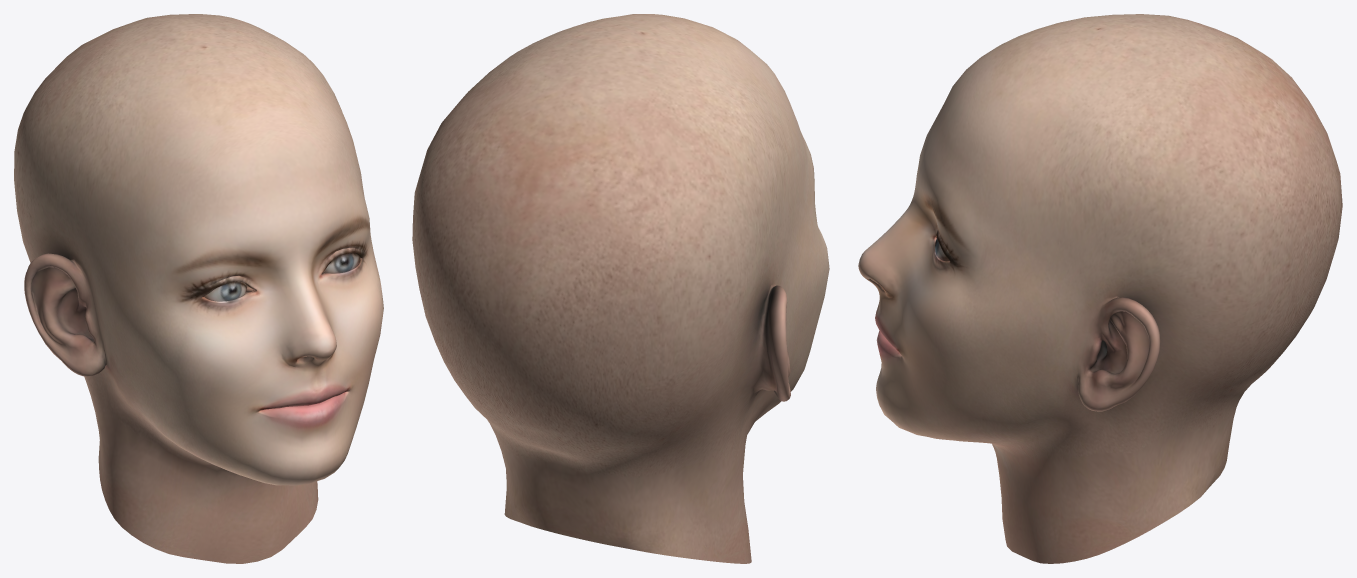
The model's file is avatar.glb.
3 renders of one model, left to right at view 1: azimuth 30°, elevation 25°; view 2: azimuth 150°, elevation 25°; view 3: azimuth 270°, elevation 25°, orthographic. The views are drawn at different scales.
Parts seen in each view (by area): view 1: Head; view 2: Head; view 3: Head.
Part boxes in pixels (x1,y1,x2,y2): Head: (14,14,383,563); Head: (412,14,829,563); Head: (858,14,1342,563).
Bounding box in the file's own units: 0.19 × 0.2741 × 0.2366.
Materials: 1 (1 with a texture image).
